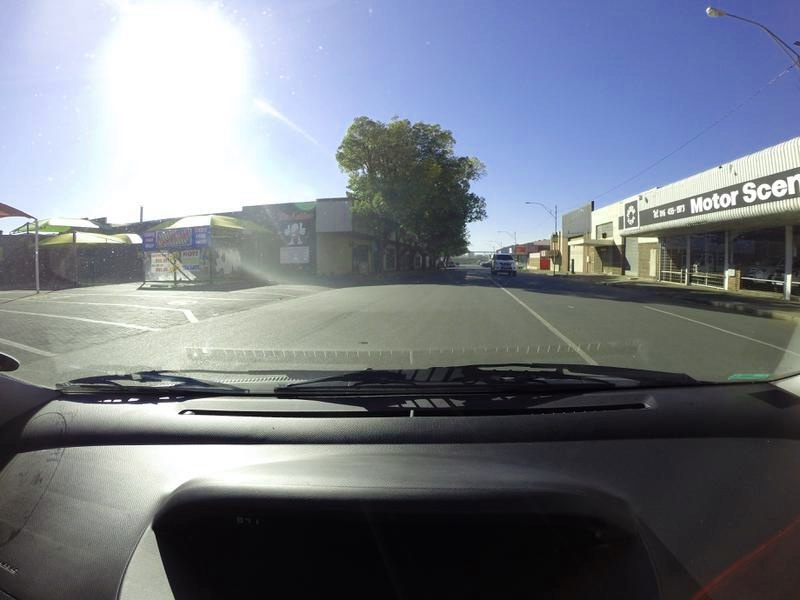pothole: (360, 338, 372, 345)
